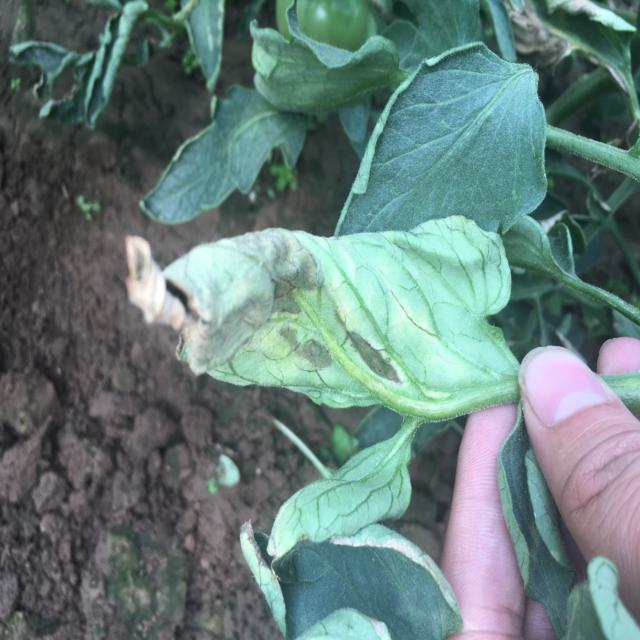Late_blight: (113, 224, 407, 400), (508, 1, 574, 74)
